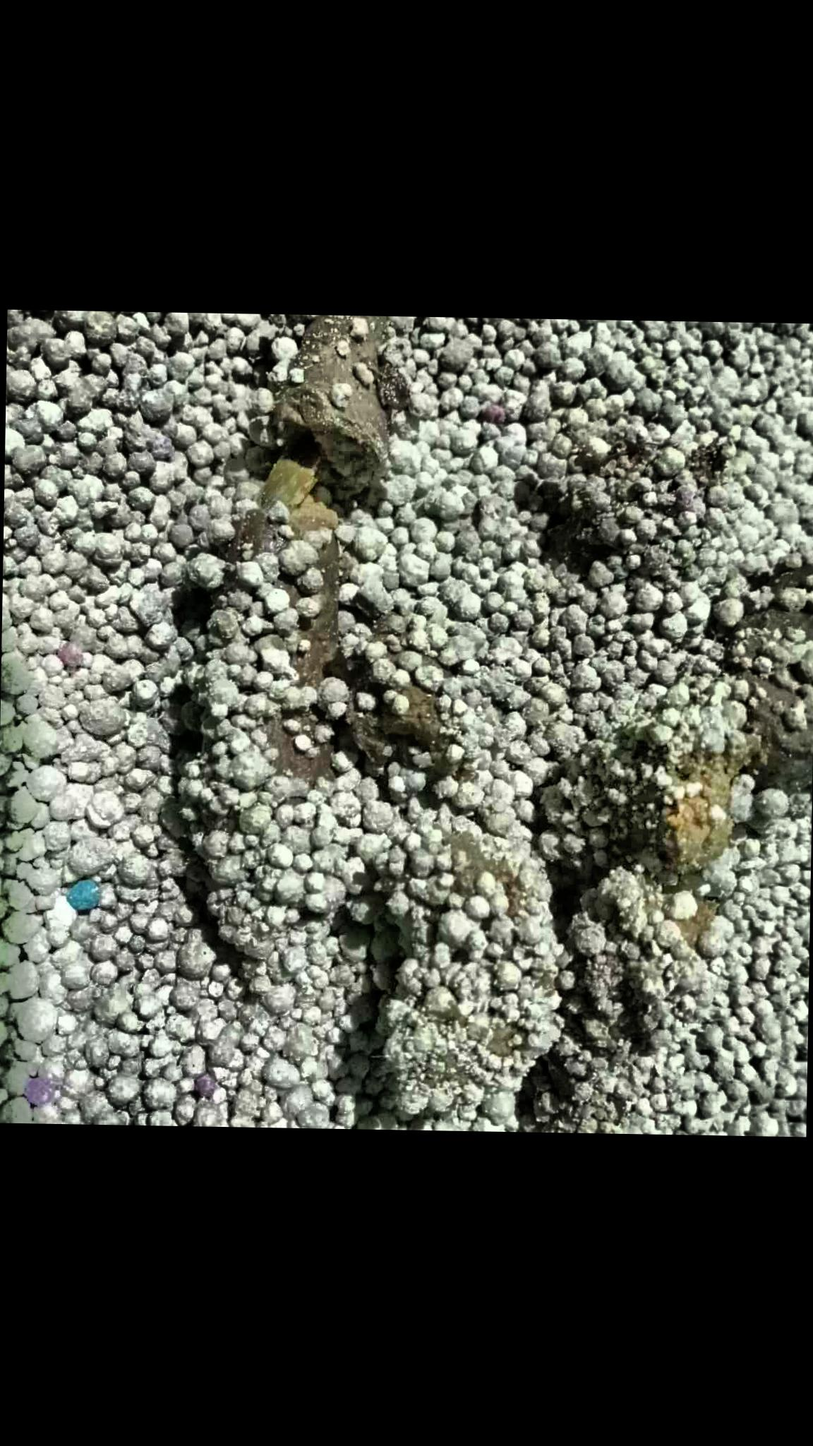poop: (175, 315, 813, 1133), (535, 414, 728, 589)
